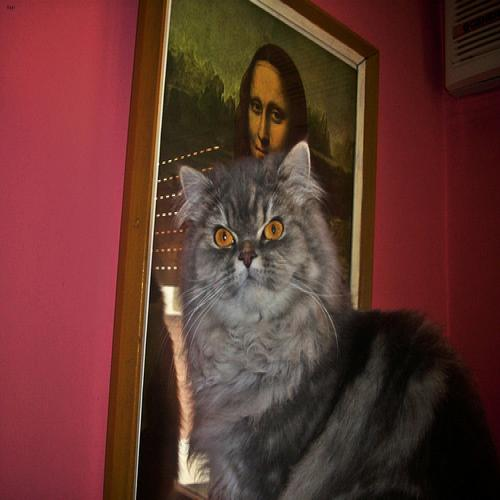persian: (179, 146, 331, 322)
